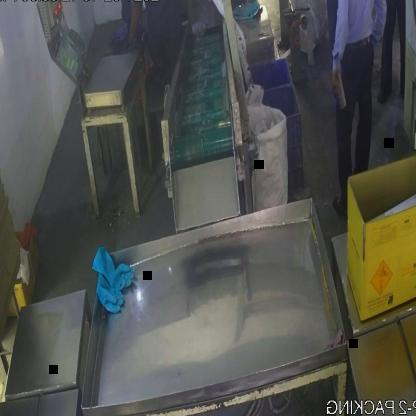no_glove: (327, 0, 356, 96), (122, 0, 146, 63)
